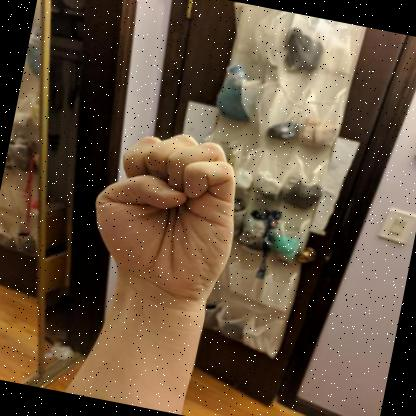E: (95, 134, 235, 307)
